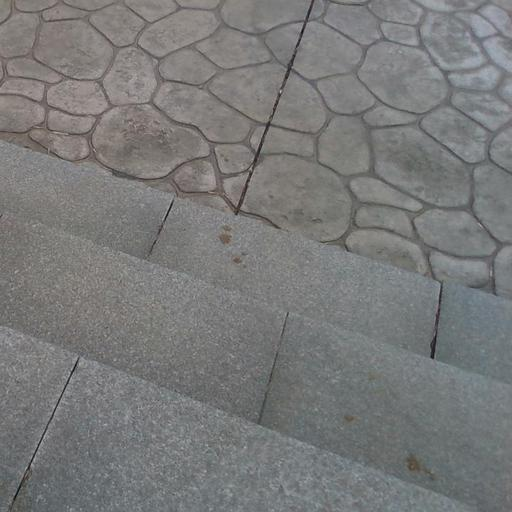stairs: (0, 144, 511, 511), (0, 329, 473, 511)
